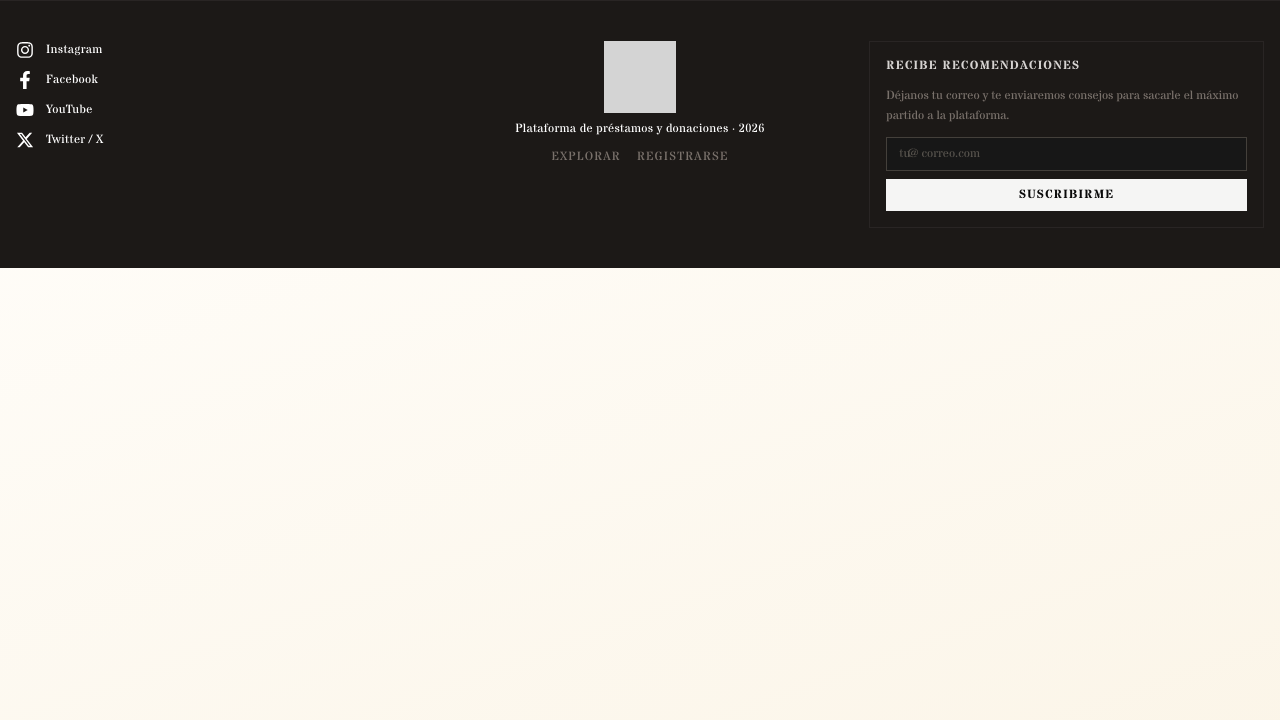
Scenario: Footer › shows confirmation message after subscribing
In the field with placeholder "tu@correo.com": (1067, 154) left=886, top=137, right=1247, bottom=171, type "test@test.com"
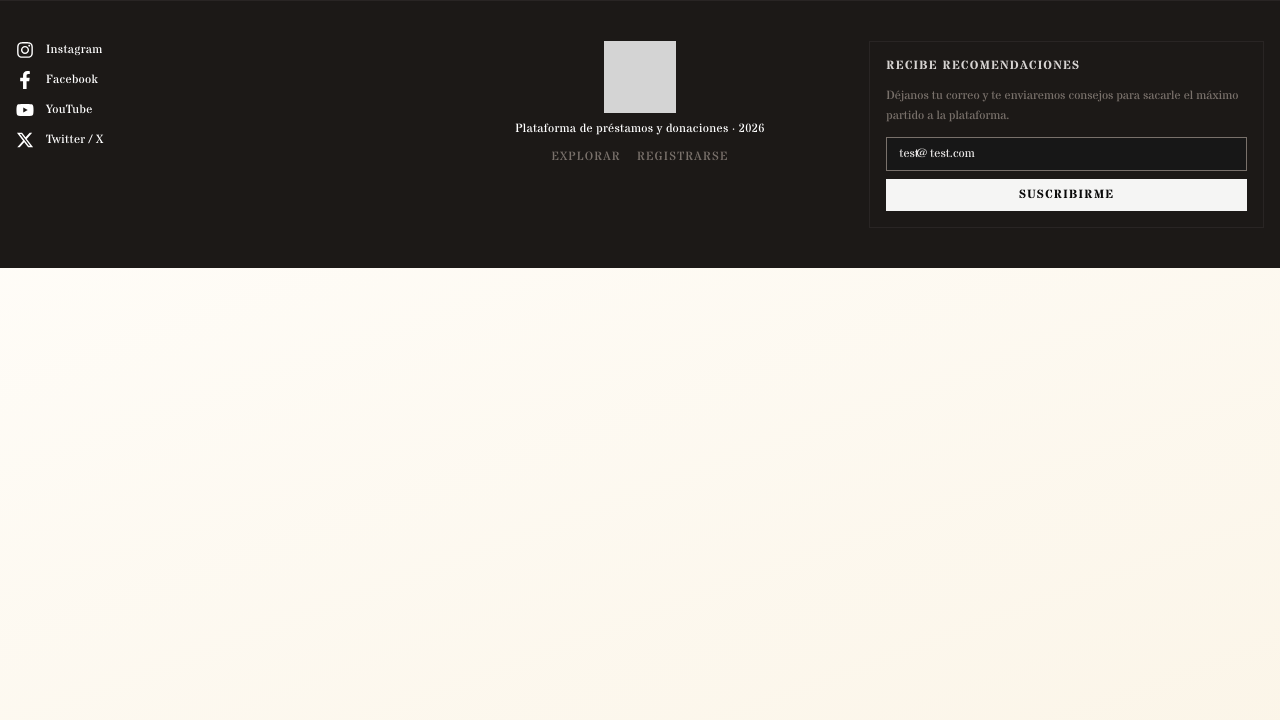
Click the button "Suscribirme": click(1067, 195) left=886, top=179, right=1247, bottom=211
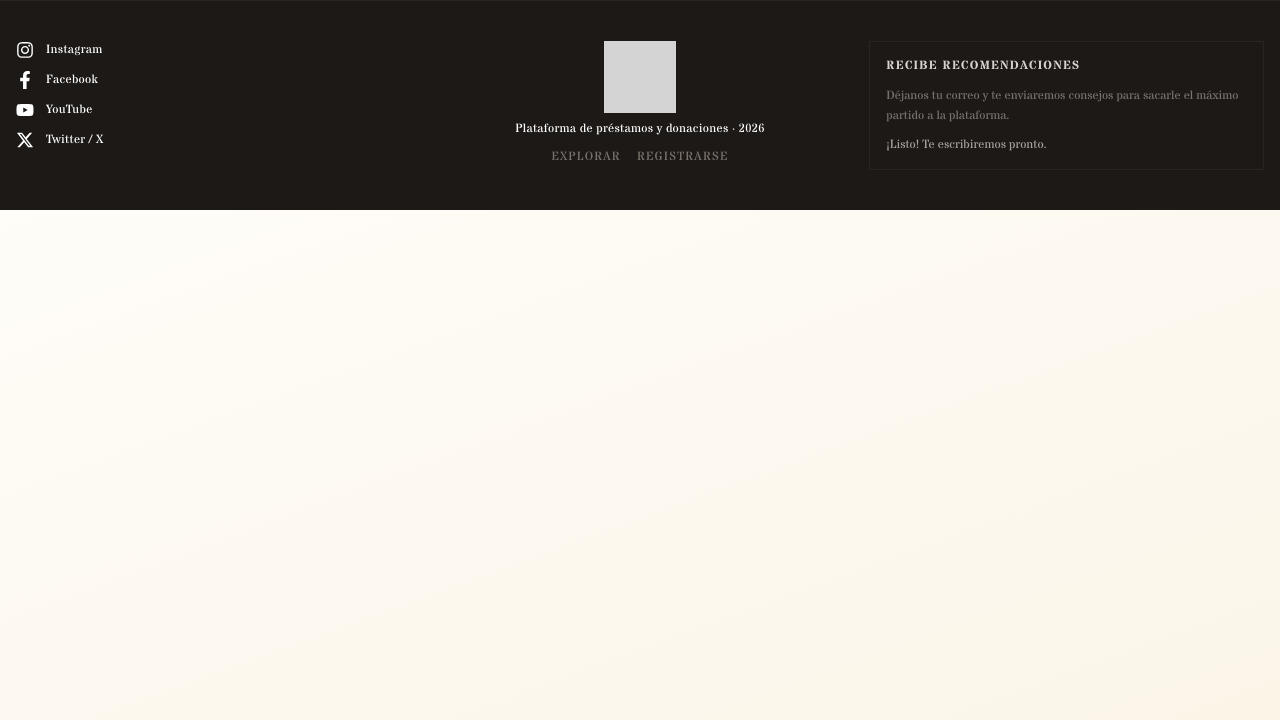
Check: the text "¡Listo! Te escribiremos pronto." is shown, box left=886, top=136, right=1047, bottom=153
